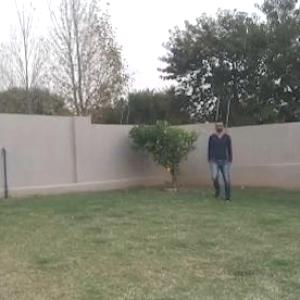follow: (211, 119, 231, 202)
